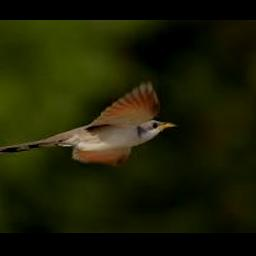Cuckoo: (0, 82, 177, 163)
